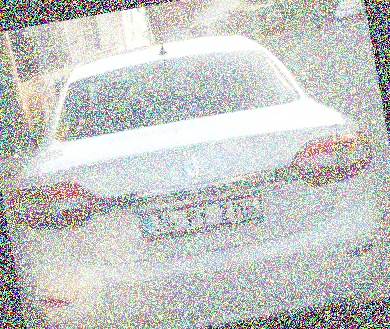plaka: (152, 196, 266, 231)
